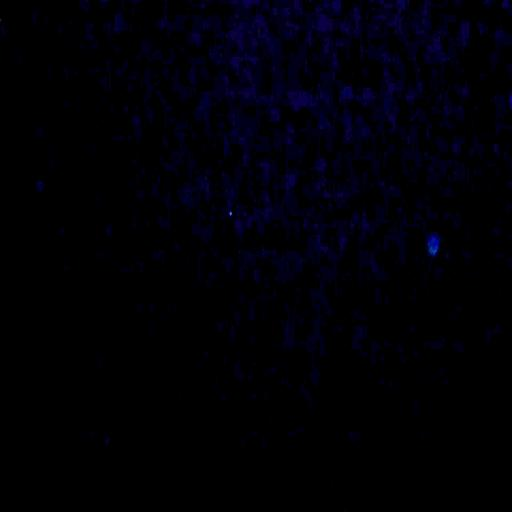object-detection-project: (428, 237, 438, 256), (230, 212, 232, 216)
